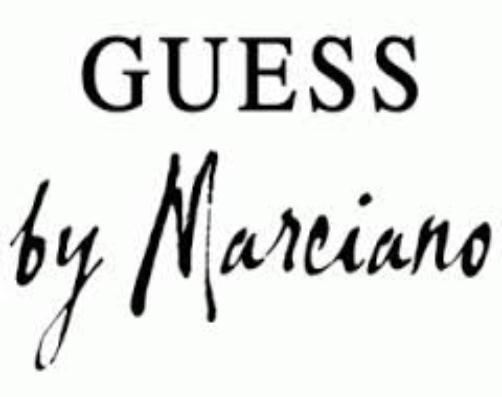GUESS: (75, 30, 422, 116)
